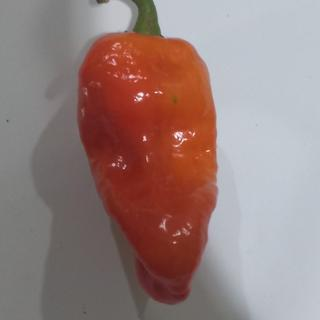Grade-A: (72, 27, 222, 308)
